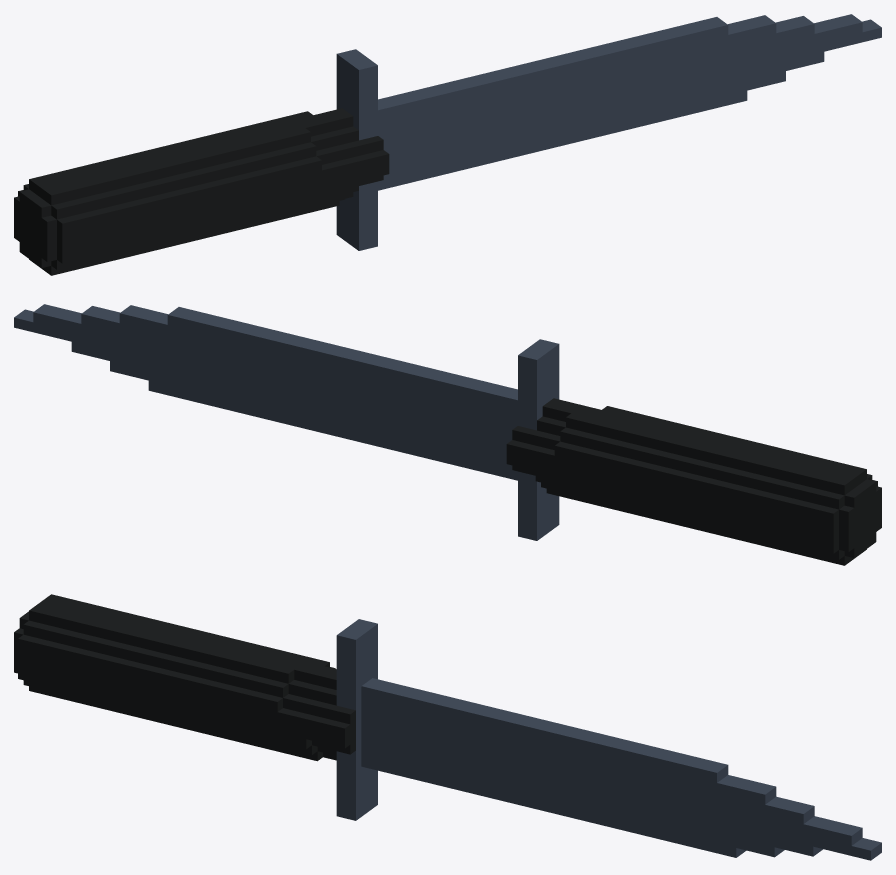
File: kabar.glb
The picture shows the model from 3 angles, top to bottom: view 1: azimuth 30°, elevation 25°; view 2: azimuth 150°, elevation 25°; view 3: azimuth 330°, elevation 25°; orthographic projection.
Visible parts, largest first — view 1: kabar:knife; view 2: kabar:knife; view 3: kabar:knife.
Part boxes in pixels (bbox=[...]): kabar:knife: bbox=[14, 14, 881, 275]; kabar:knife: bbox=[14, 304, 881, 565]; kabar:knife: bbox=[14, 594, 881, 860].
Bounding box in the file's own units: 0.352 × 0.072 × 0.032.
